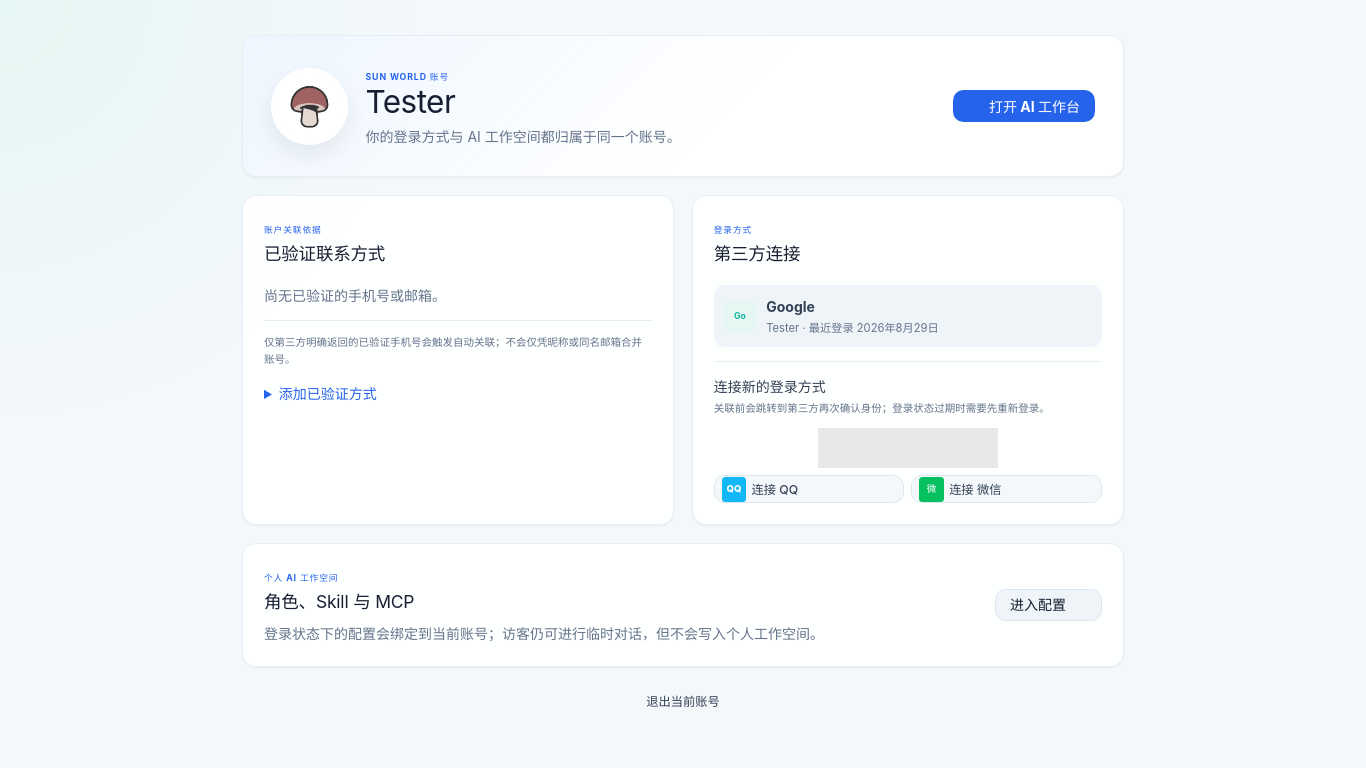
Scenario: MePage › starts an explicit connect flow with an account-local safe return path
What coordinates should you click on to do the following:
click the button "QQ 连接 QQ"
I would click on:
 (809, 489)
Its box is [714,475,904,503].
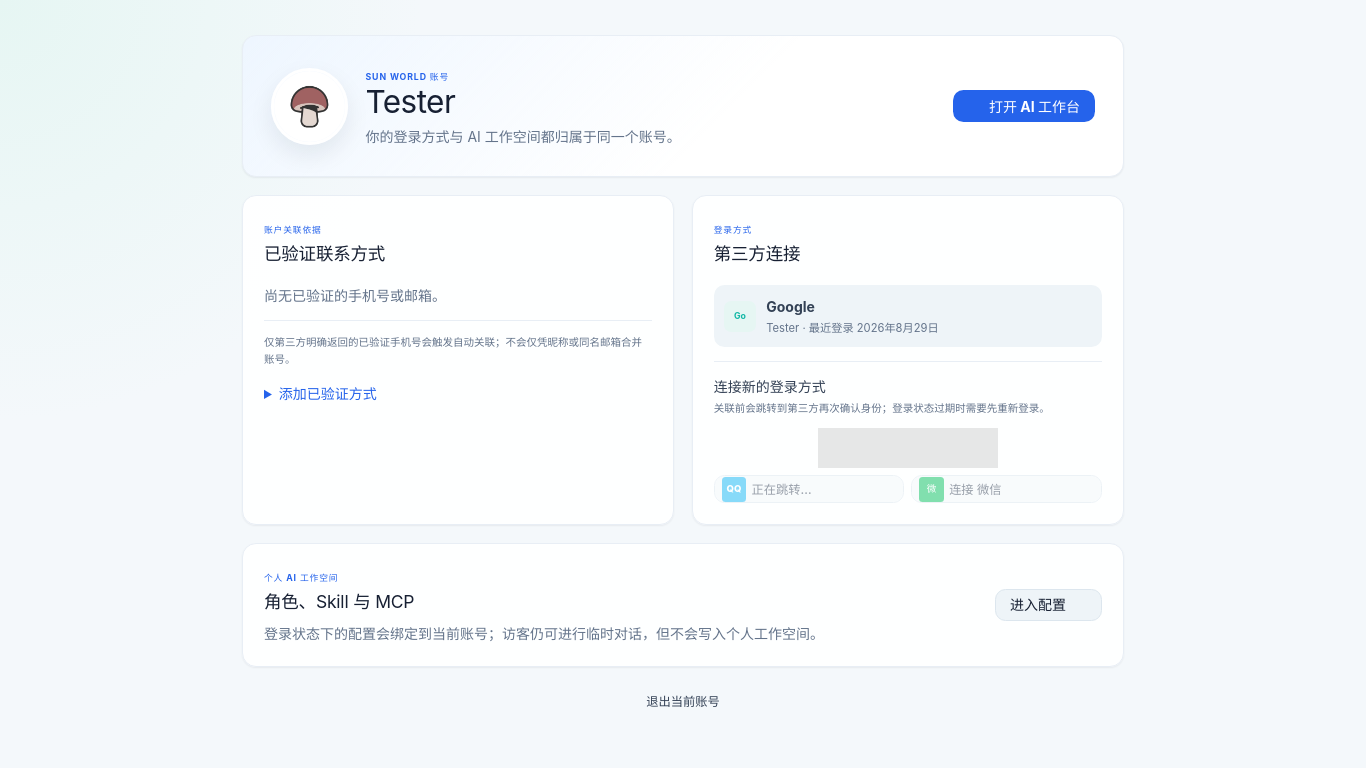
Check: the button "QQ 正在跳转…" is disabled, box [714,475,904,503]
